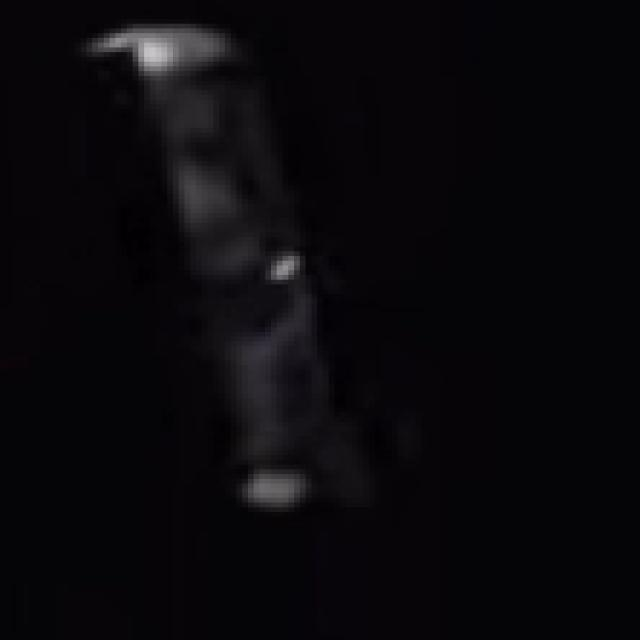large_debris: (67, 2, 397, 544)
